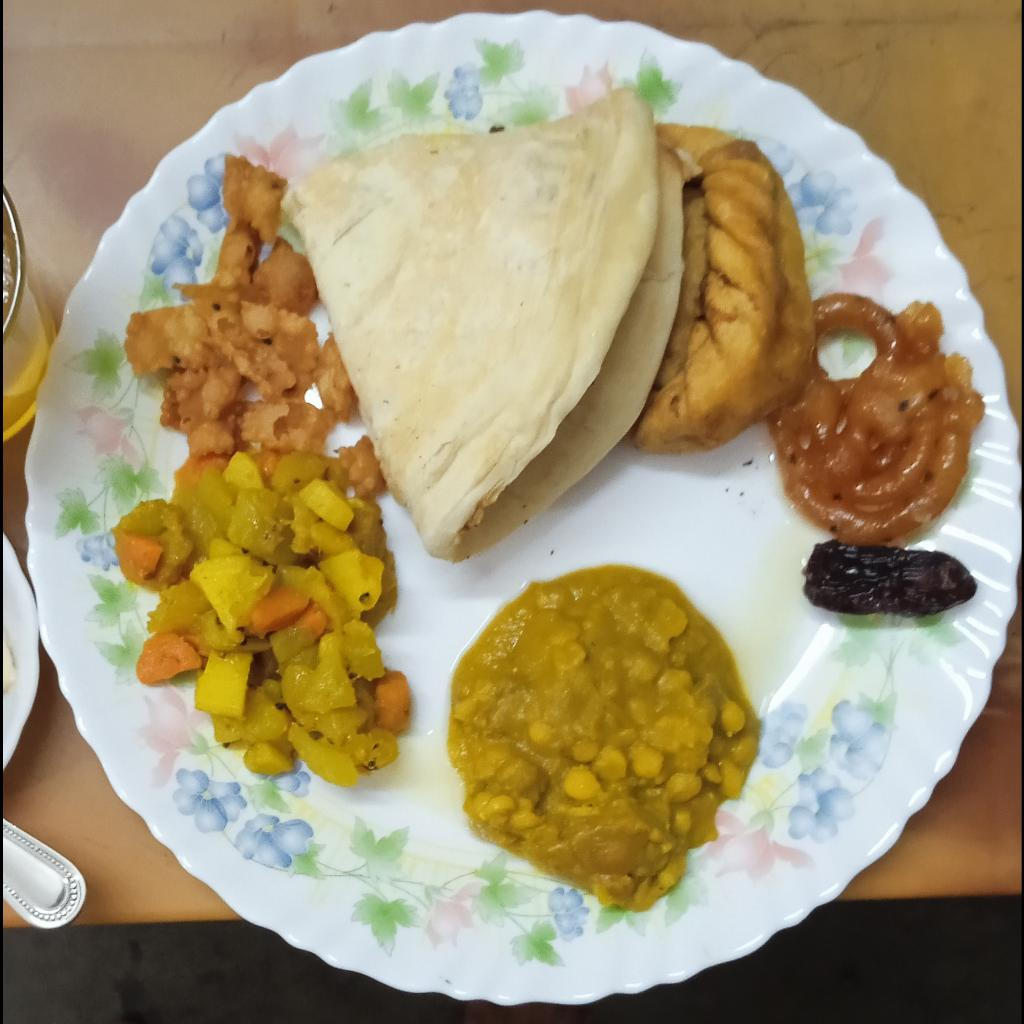chomchom: (123, 160, 362, 457)
daal: (448, 565, 761, 911)
dates: (802, 540, 976, 618)
jilapi: (768, 291, 987, 545)
ruti: (288, 83, 680, 559)
sweets: (632, 123, 815, 456)
vegetable: (106, 453, 407, 788)
